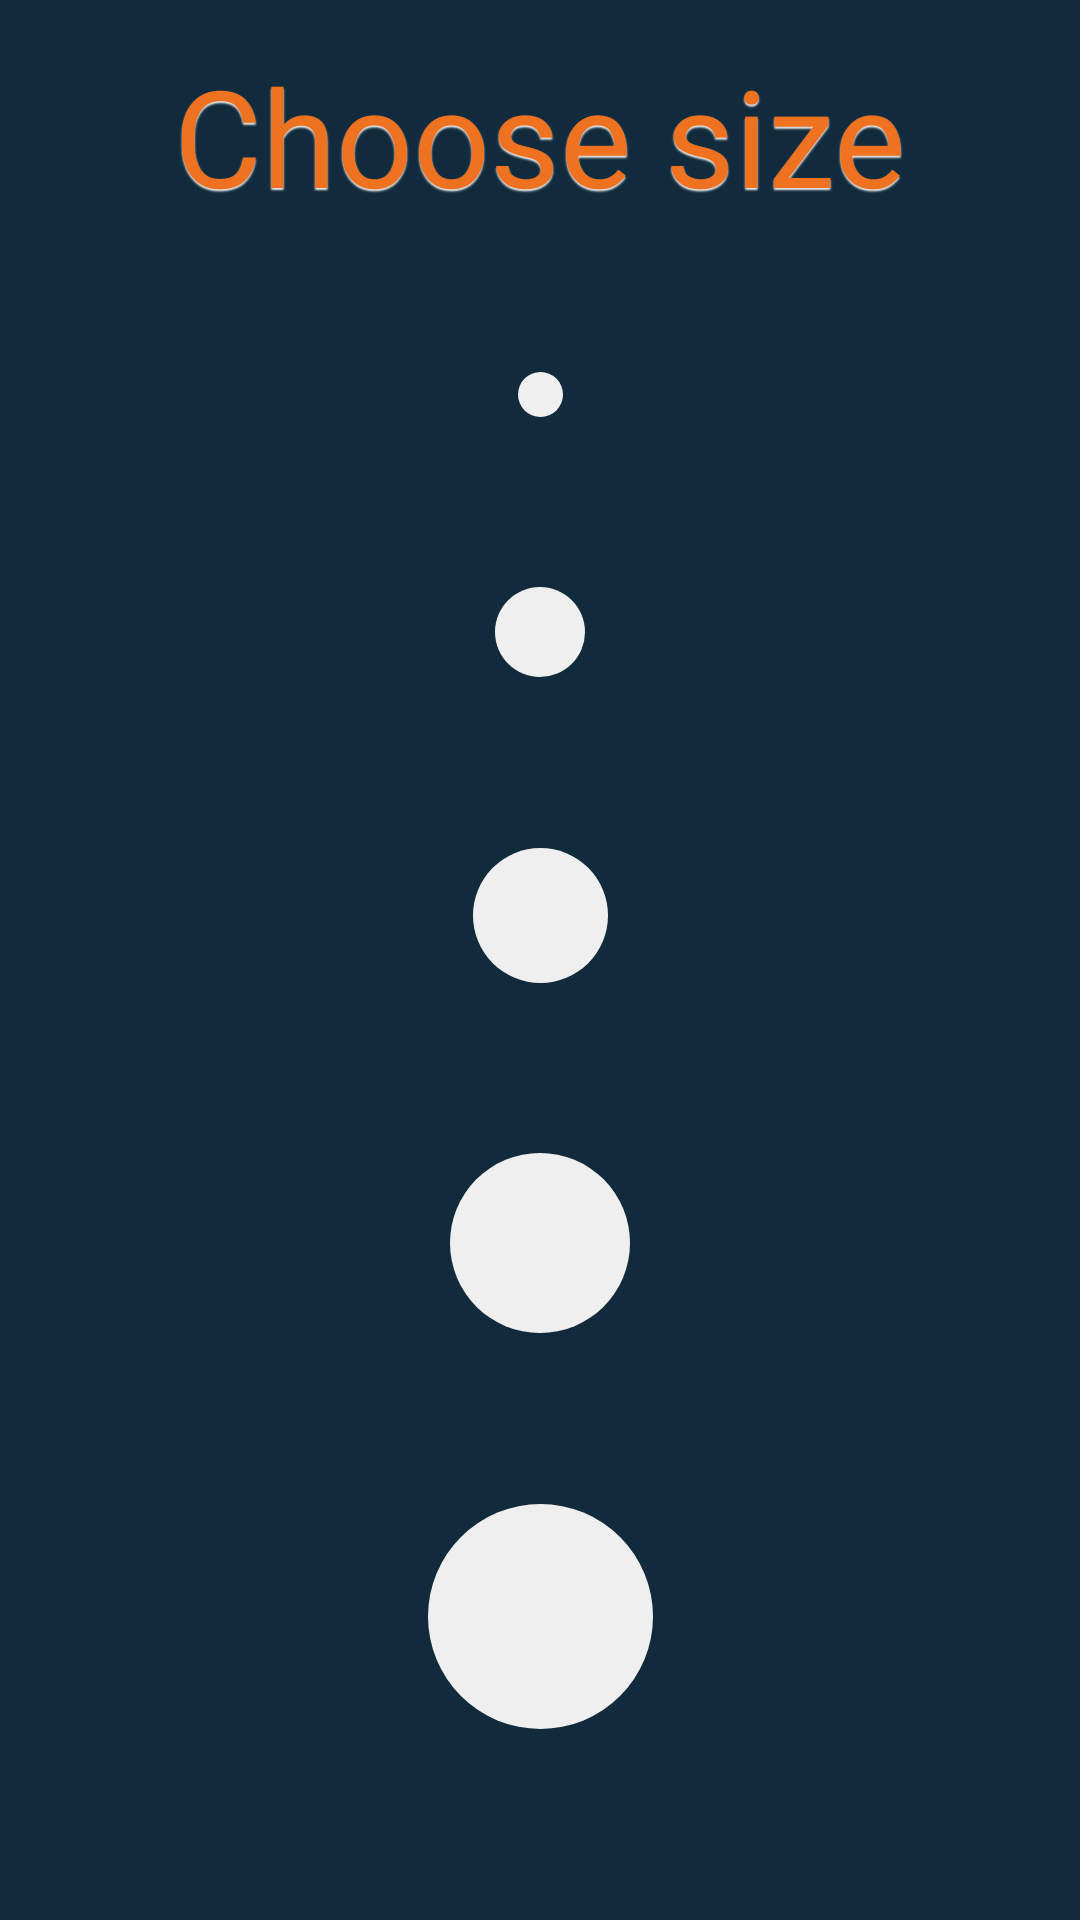

Named icons in this screenshot (1080×1920) and their bounding boxes, bbox(x1, y1, x2, y2):
brush size: bbox(518, 372, 563, 417), bbox(495, 587, 585, 677), bbox(473, 848, 608, 983), bbox(450, 1153, 630, 1333), bbox(428, 1504, 653, 1729)
